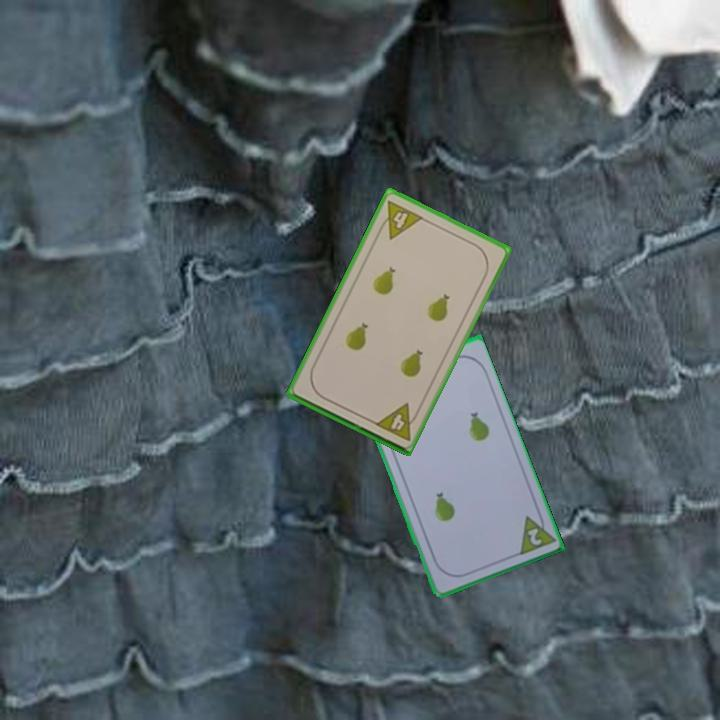2p: (514, 506, 557, 558)
4p: (374, 196, 426, 242), (371, 399, 422, 444)
